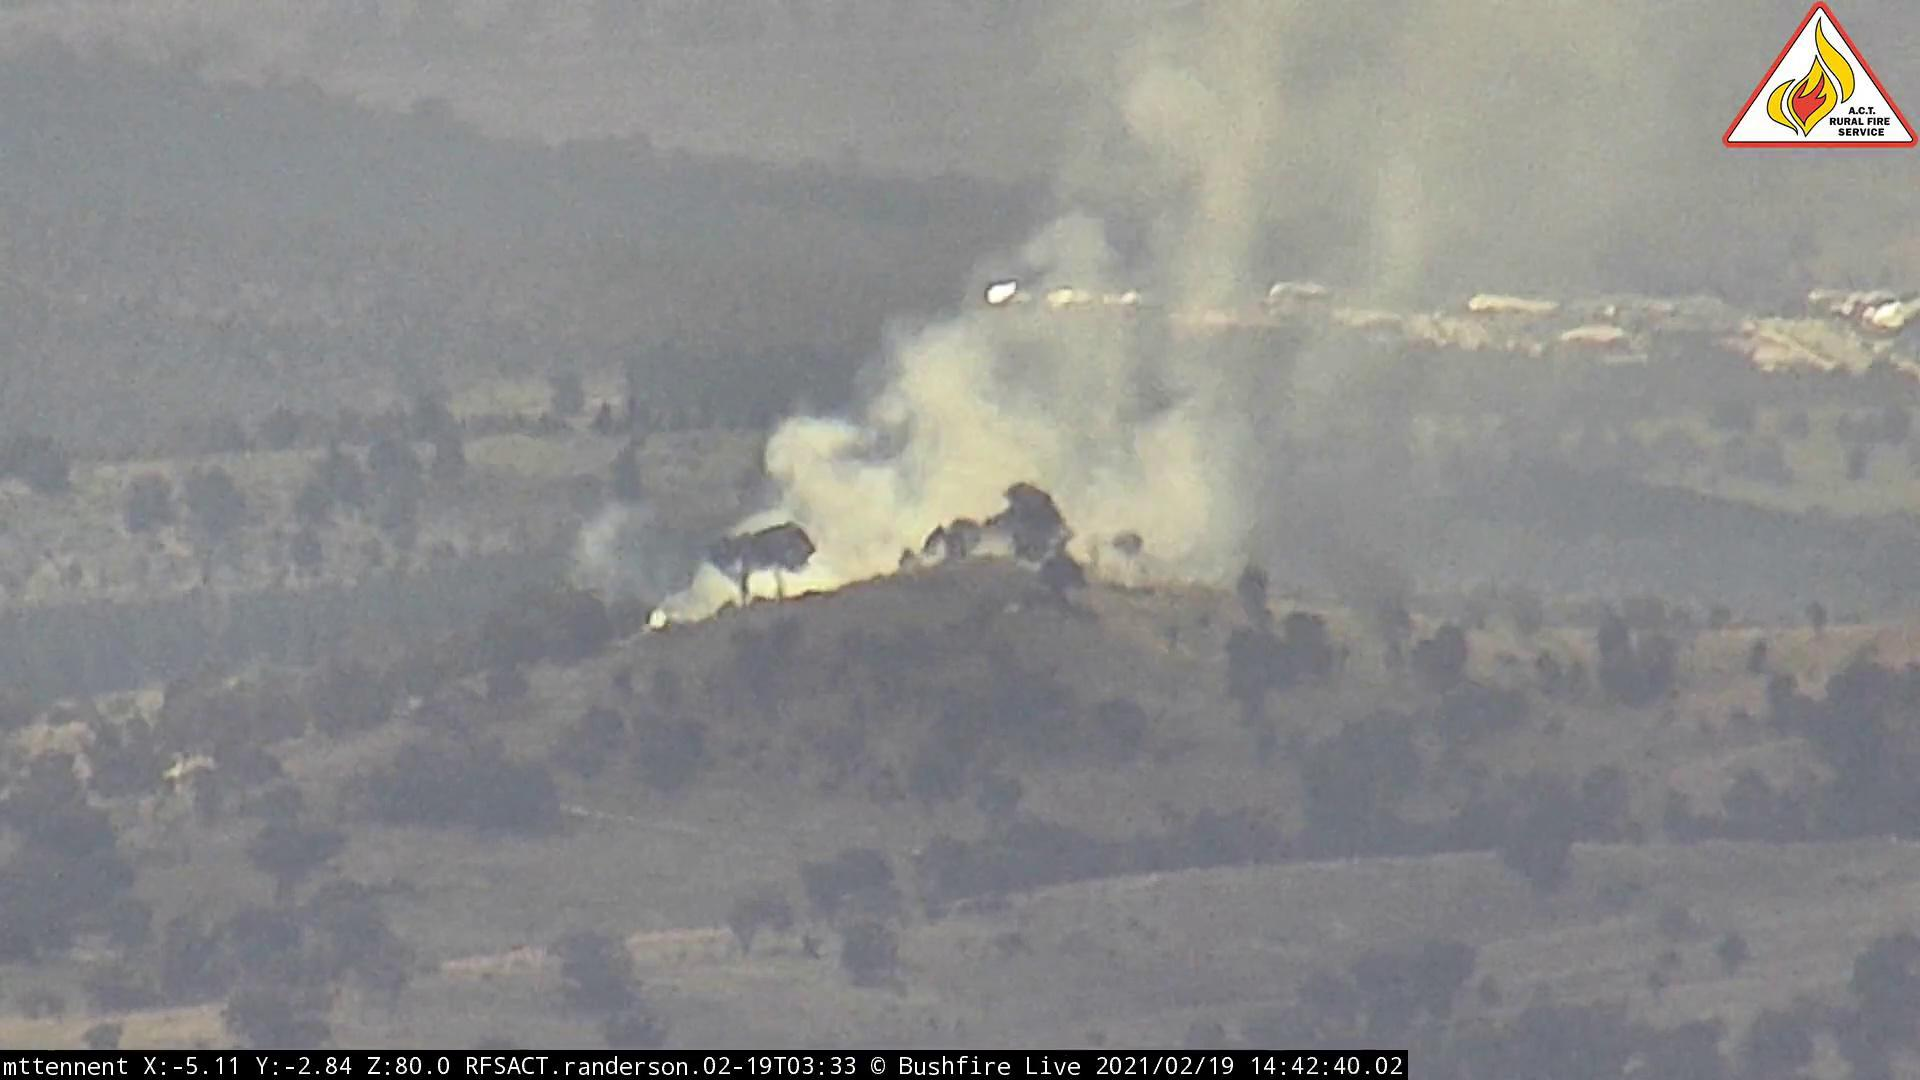Smoke: (626, 47, 1453, 638)
